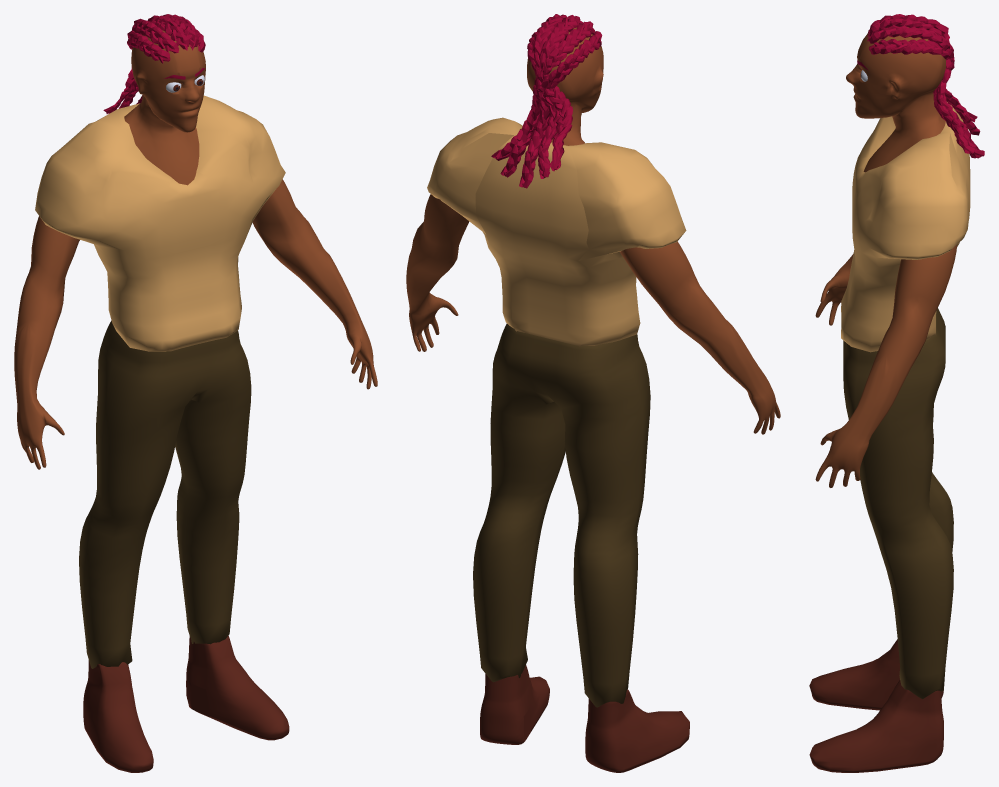
File: Oliver.fbx
3 renders of one model, left to right at view 1: azimuth 30°, elevation 25°; view 2: azimuth 150°, elevation 25°; view 3: azimuth 270°, elevation 25°, orthographic. The views are drawn at different scales.
Visible parts, largest first — view 1: Oliver; view 2: Oliver; view 3: Oliver.
Part boxes in pixels (x1,y1,x2,y2): Oliver: [14, 14, 377, 772]; Oliver: [406, 14, 780, 772]; Oliver: [809, 14, 984, 772].
Bounding box in the file's own units: 169 × 329 × 73.14.
1 material, 1 textured.
